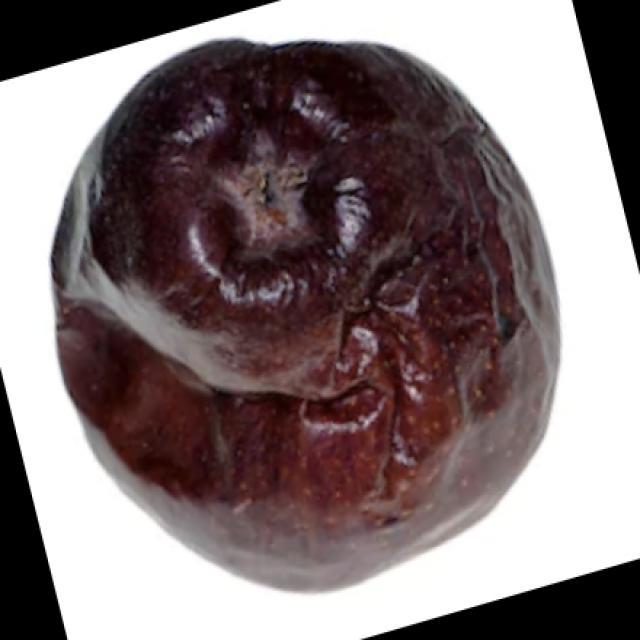Rotten: (42, 40, 558, 593)
